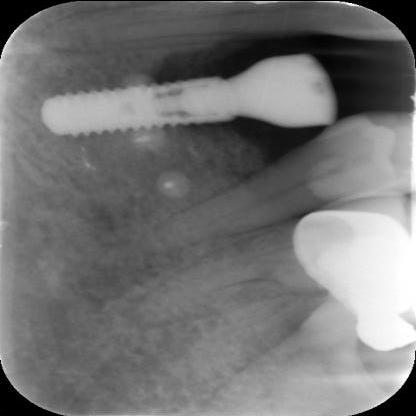ITI: (42, 66, 240, 158)
